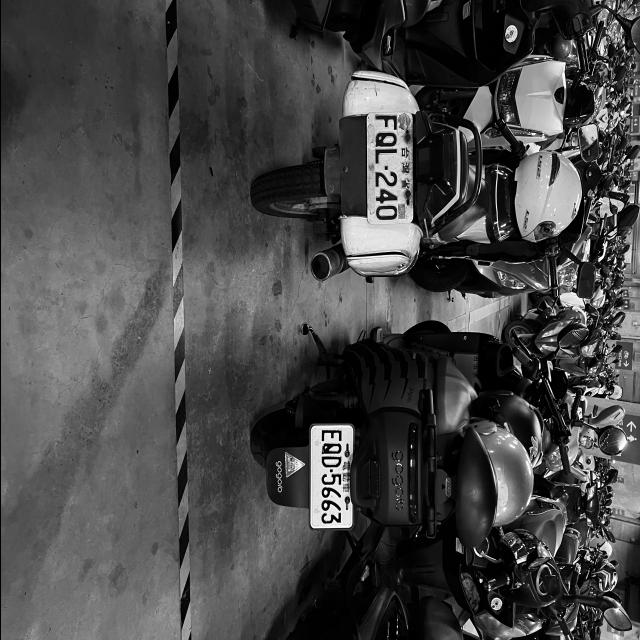-: (382, 166, 388, 170), (328, 468, 333, 472)
0: (374, 204, 396, 221)
2: (374, 171, 396, 188)
3: (320, 512, 342, 526)
5: (320, 474, 342, 486)
6: (318, 499, 341, 512), (321, 487, 341, 497)
D: (320, 454, 342, 468)
E: (320, 429, 342, 442)
F: (374, 114, 396, 130)
L: (374, 148, 398, 166)
Q: (374, 132, 396, 148), (320, 442, 341, 454)
plate: (366, 115, 410, 222), (310, 425, 352, 528)
